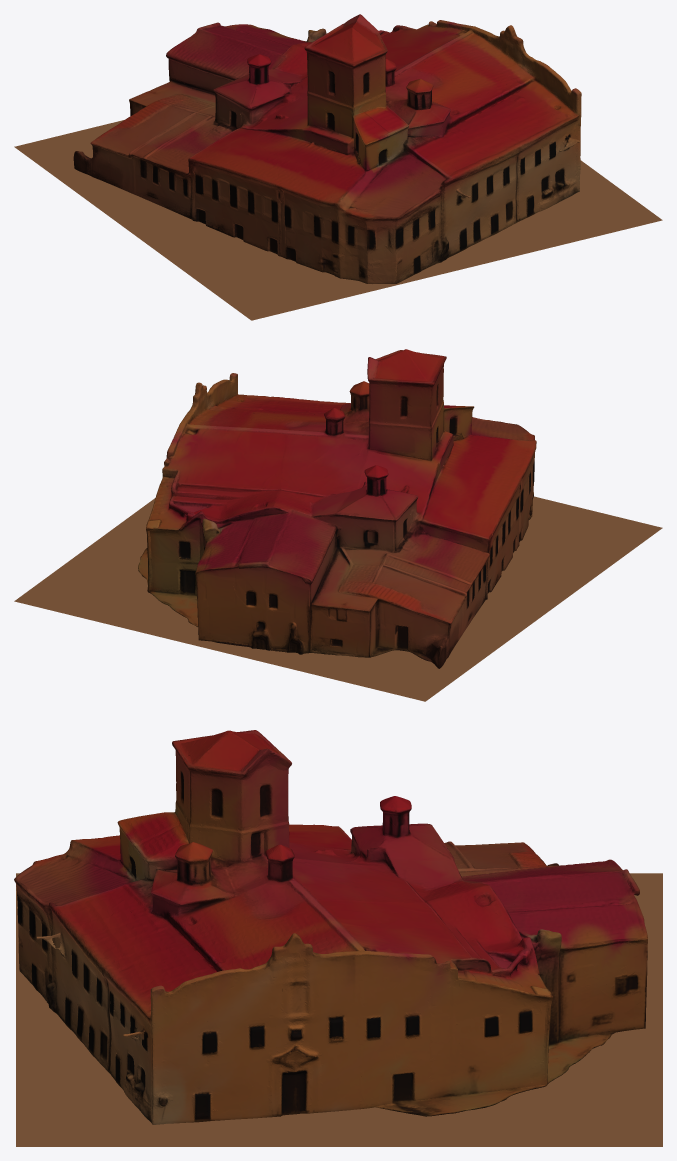
File: sandomenico1.glb
3 views of the same model, one above another, from view 1: azimuth 30°, elevation 25°; view 2: azimuth 150°, elevation 25°; view 3: azimuth 270°, elevation 25° (orthographic). The views are drawn at different scales.
Parts seen in each view (by area): view 1: tripo_node_95220c5e-02d5-4d36-9bb4-89123e25320a, Piano; view 2: tripo_node_95220c5e-02d5-4d36-9bb4-89123e25320a, Piano; view 3: tripo_node_95220c5e-02d5-4d36-9bb4-89123e25320a, Piano.
Part boxes in pixels (x1=…): tripo_node_95220c5e-02d5-4d36-9bb4-89123e25320a: x1=73, y1=14, x2=581, y2=283; Piano: x1=14, y1=114, x2=662, y2=320; tripo_node_95220c5e-02d5-4d36-9bb4-89123e25320a: x1=138, y1=349, x2=536, y2=668; Piano: x1=14, y1=496, x2=662, y2=701; tripo_node_95220c5e-02d5-4d36-9bb4-89123e25320a: x1=14, y1=730, x2=647, y2=1124; Piano: x1=16, y1=873, x2=662, y2=1146.
Size of the model in its own units: 1 by 0.4515 by 1.
Materials: 2 (1 with a texture image).
